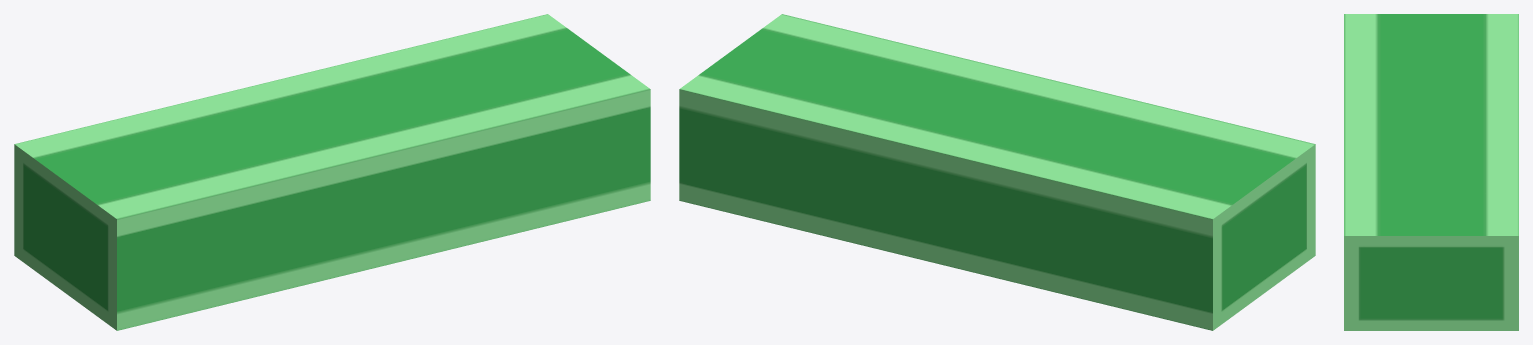
File: bian01.FBX
3 views of the same model, side by side, from view 1: azimuth 30°, elevation 25°; view 2: azimuth 150°, elevation 25°; view 3: azimuth 270°, elevation 25° (orthographic). The views are drawn at different scales.
Visible parts, largest first — view 1: line; view 2: line; view 3: line.
Boxes of the visible parts, bbox=[...] form: line: bbox=[14, 14, 650, 330]; line: bbox=[679, 14, 1315, 330]; line: bbox=[1344, 14, 1518, 330].
Size of the model in its own units: 15 by 3 by 5.
